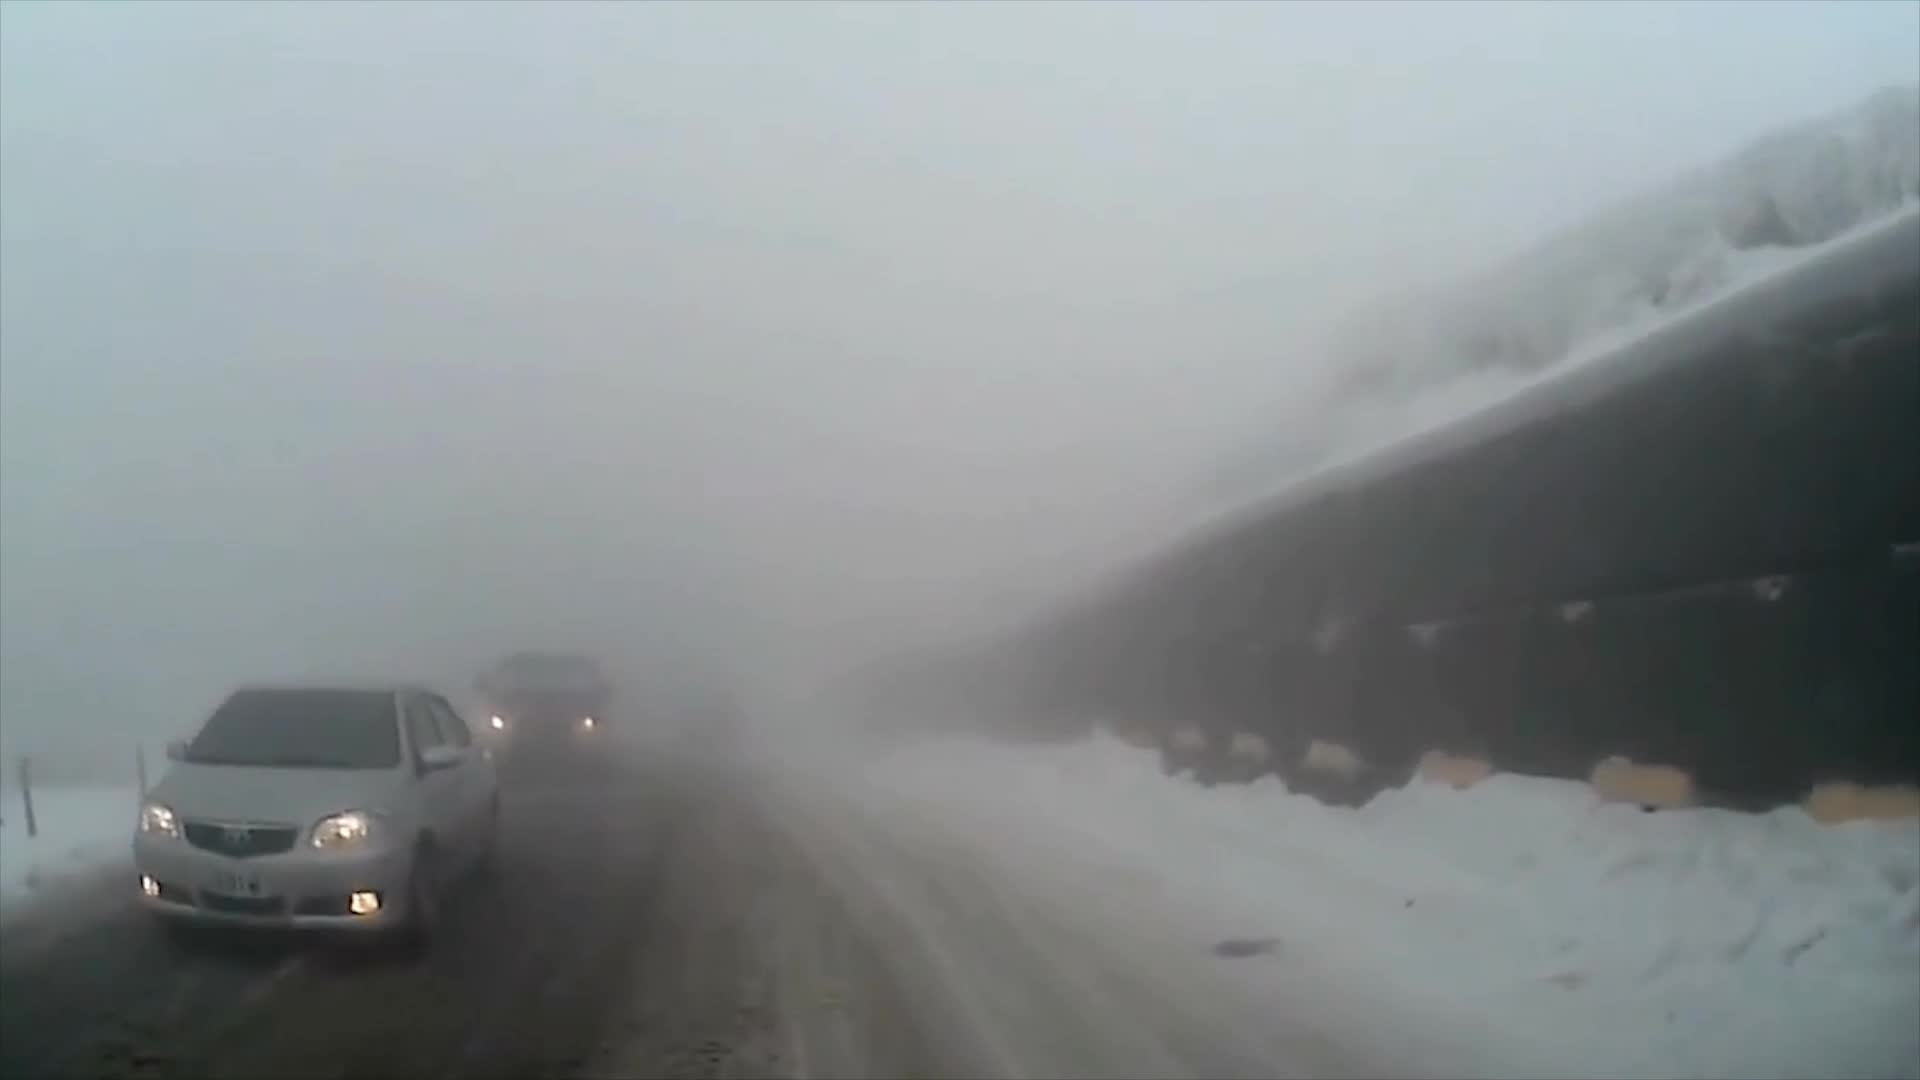vehicle: (127, 676, 512, 960), (473, 650, 615, 777)
